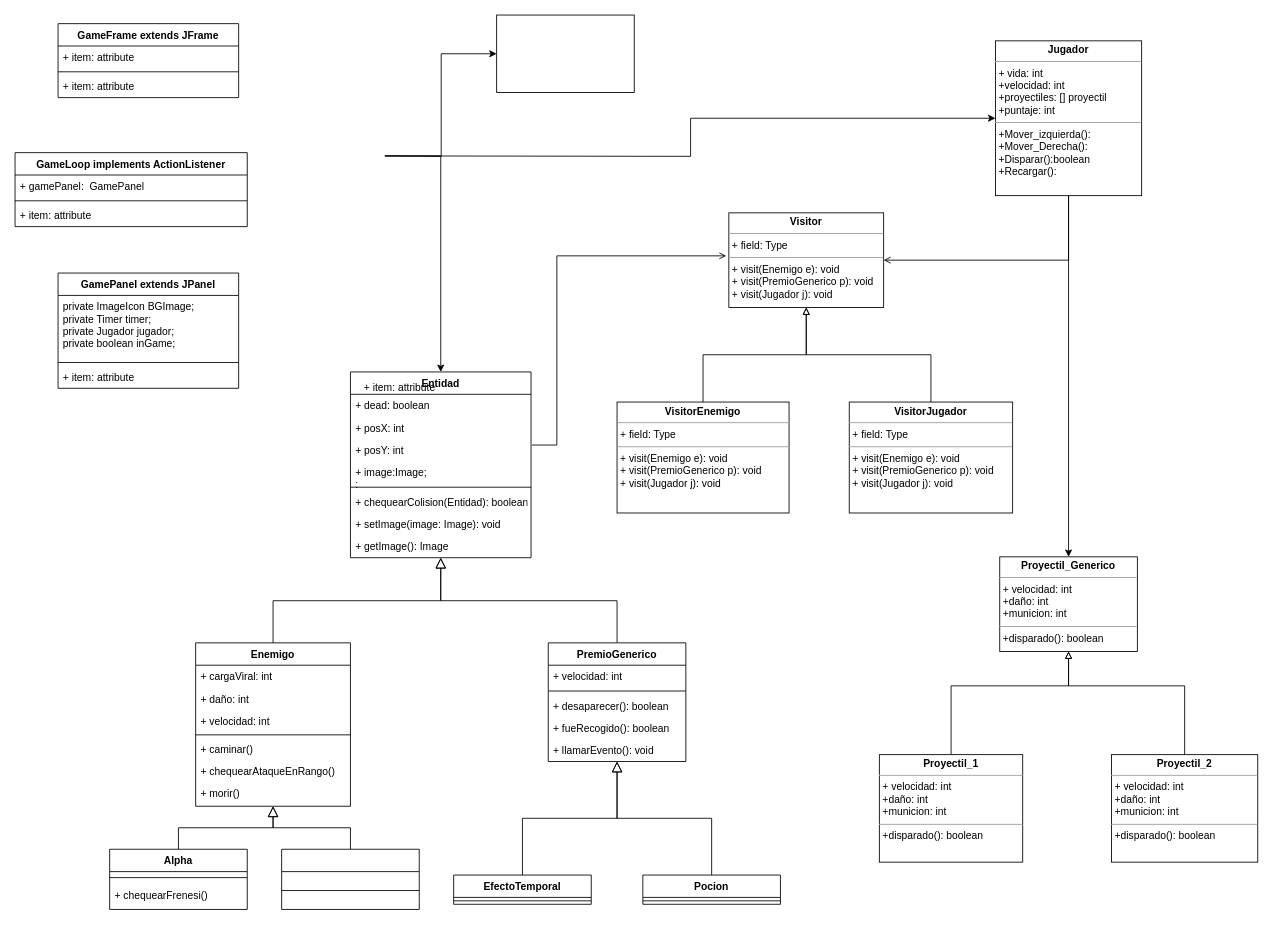
Some shapes in this 1273 by 925 pixel diagram are drawn without their labels. The shapes that lost their labels are listed below. From the top down, each one's centre as x and y in pixels, then its label:
At (565,53): "Nivel + field: Type + method(): Type".
At (350,878): "Beta".
